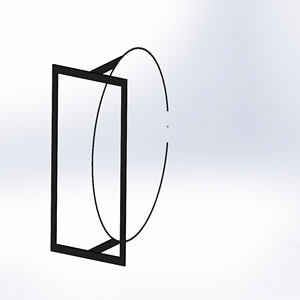circle: (40, 44, 171, 268)
